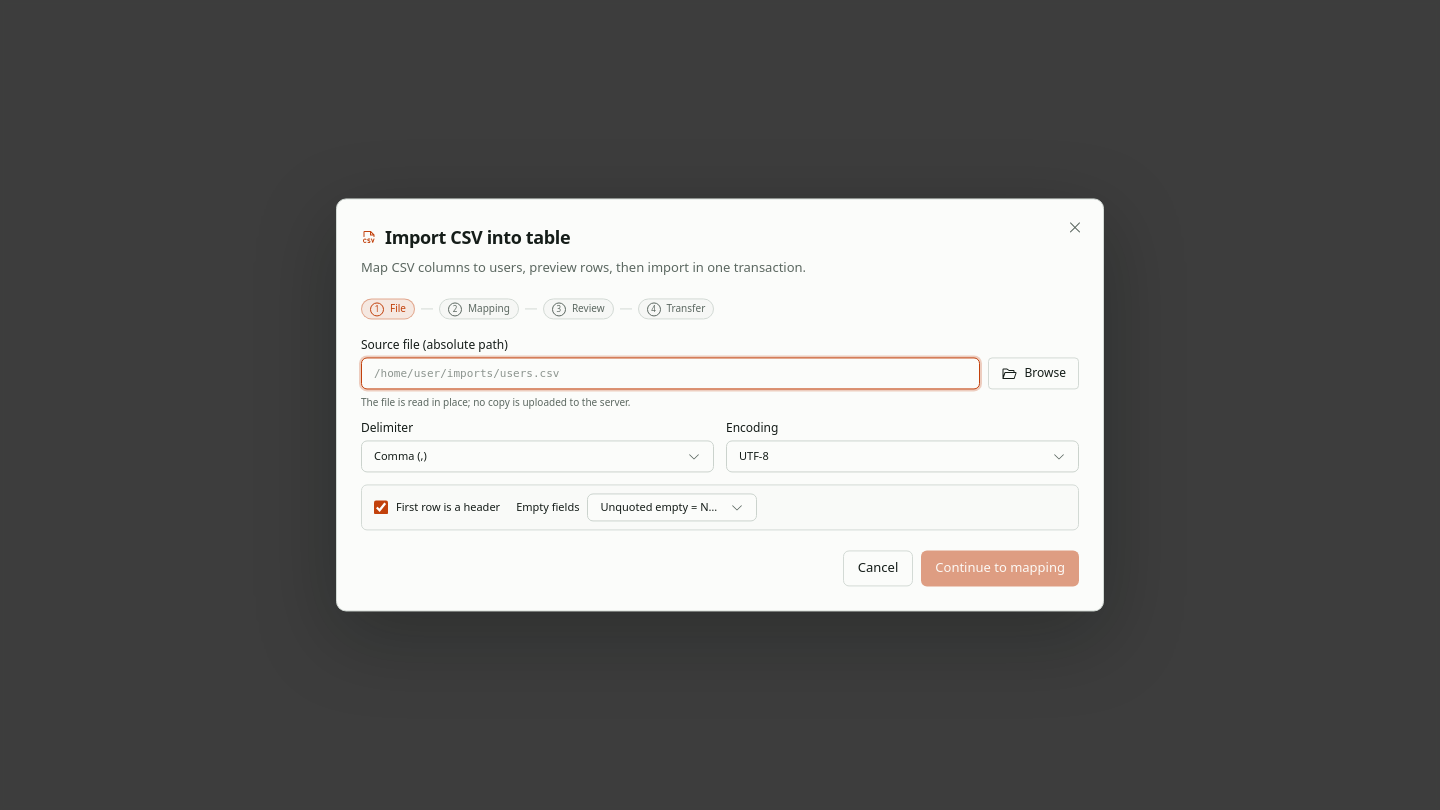
it: DatabaseCsvTransferDialog › selects a local CSV file with the native picker
Click the button with aria-label "Choose CSV source": [1033, 374] box [988,358,1079,390]
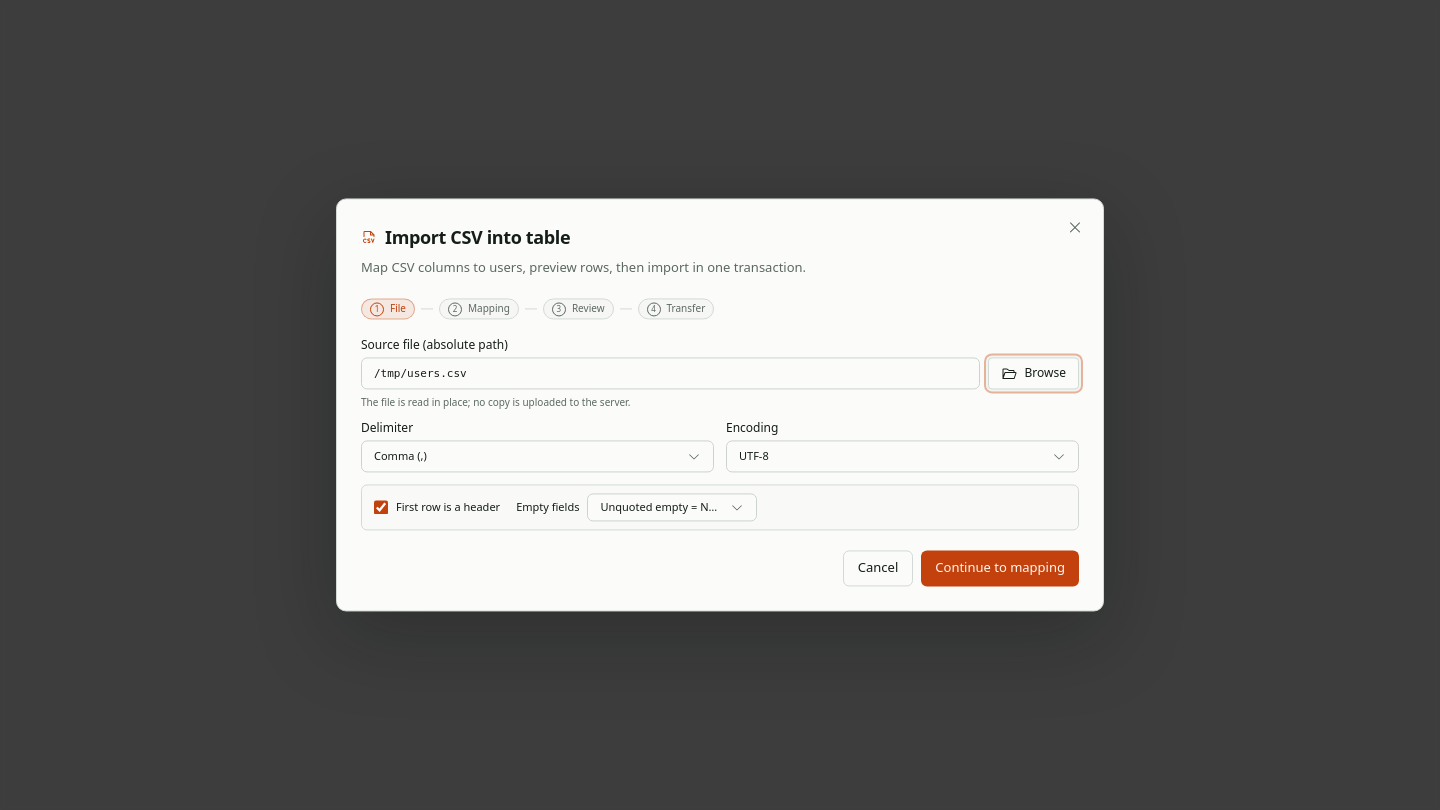
Expected: the field labelled "Source file (absolute path)" holds "/tmp/users.csv", [361,358,980,390]
